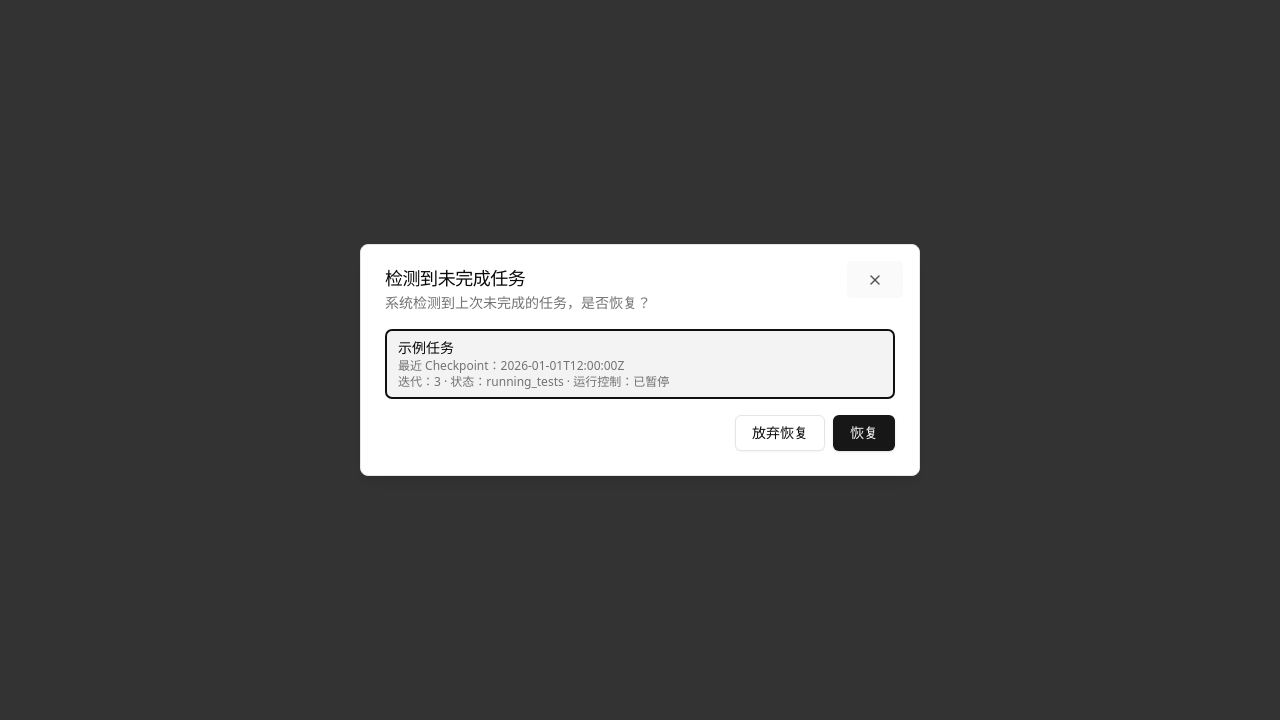
Test case: RecoveryPrompt › 显示未完成任务并触发恢复操作
Expected: the heading "检测到未完成任务" is shown, [385,266,525,290]
Expected: the text "示例任务" is shown, [398,338,454,357]
Click the button "恢复" at (864, 433), box [833,415,895,451]
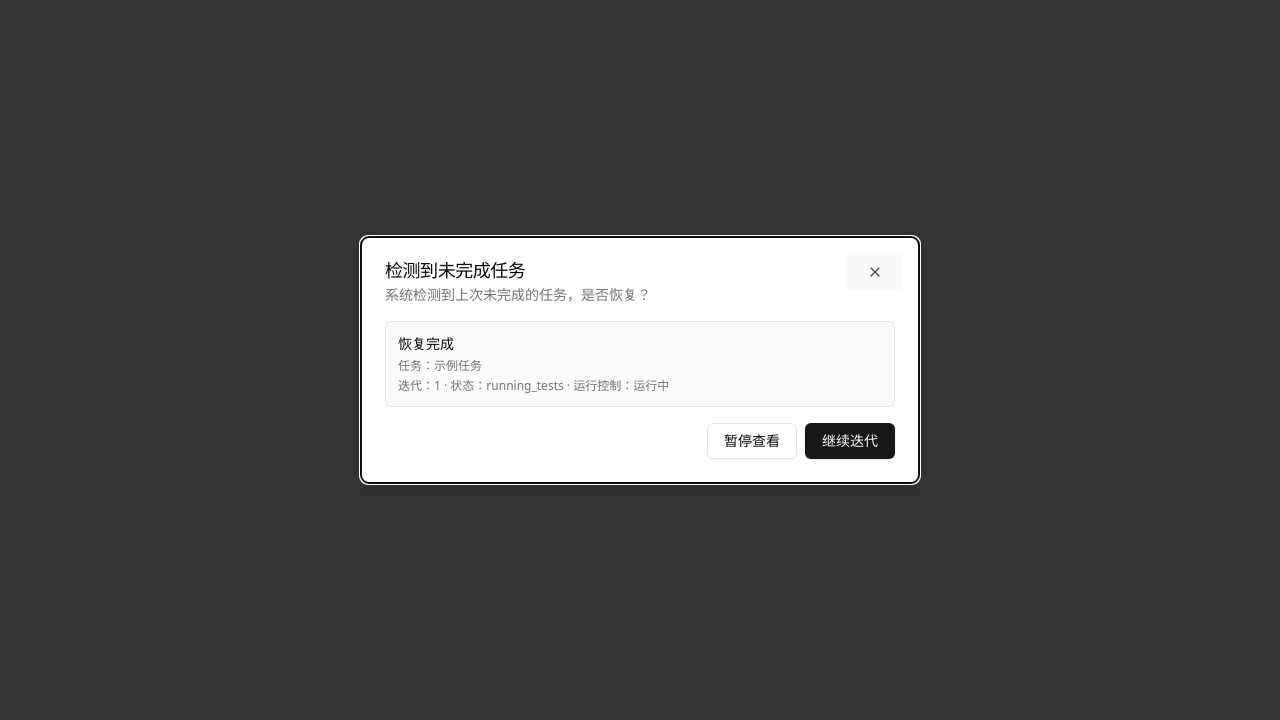
Result: the text "恢复完成" is shown at [398,334,454,353]
Result: the button "继续迭代" is shown at [805,423,895,459]
